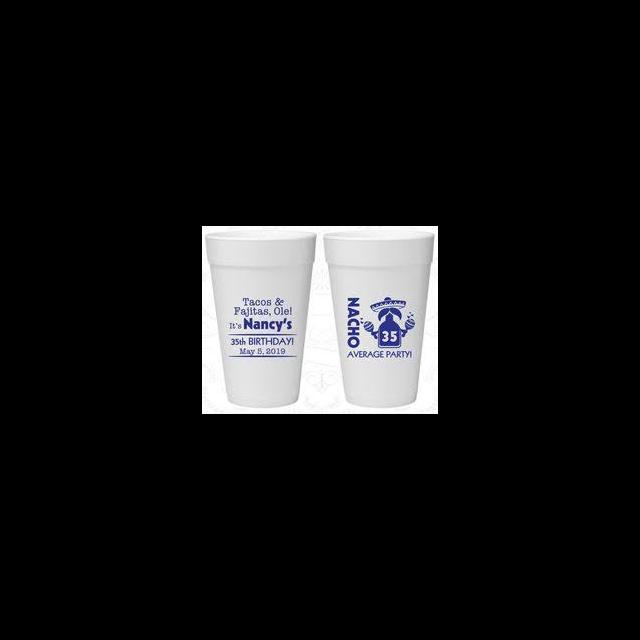paper: (323, 229, 433, 404), (204, 231, 314, 405)
